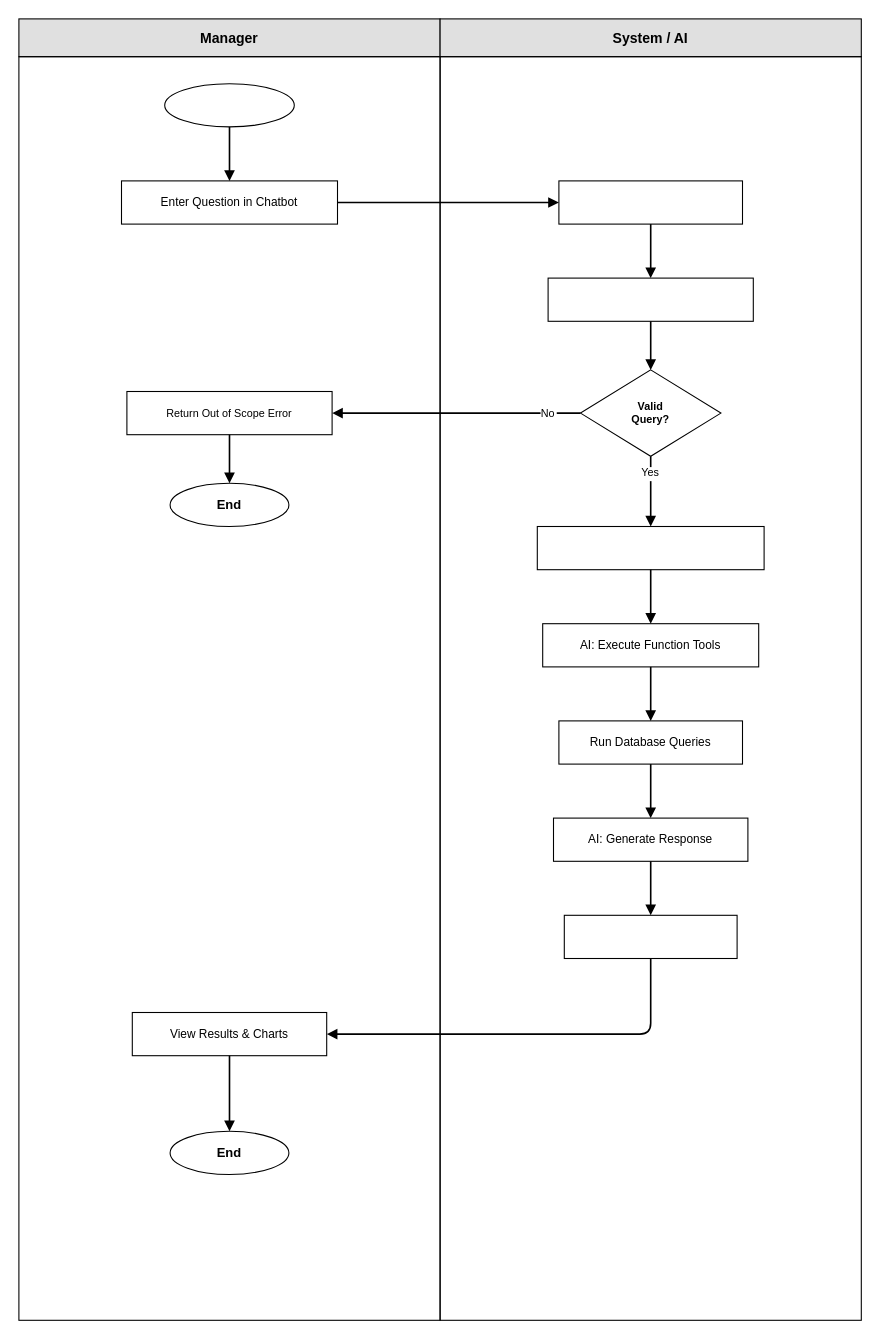
Some shapes in this 880 by 1339 pixel diagram are drawn without their labels. The centre of each missing label's shape, as x and y in pixels:
"AI: Analyze Query Intent" belongs at pixel 650 299.
"Inject Scope & Security Rules" belongs at pixel 650 547.
"Load Chat History" belongs at pixel 650 202.
"Save Chat History" belongs at pixel 650 936.
"Start" belongs at pixel 229 105.
